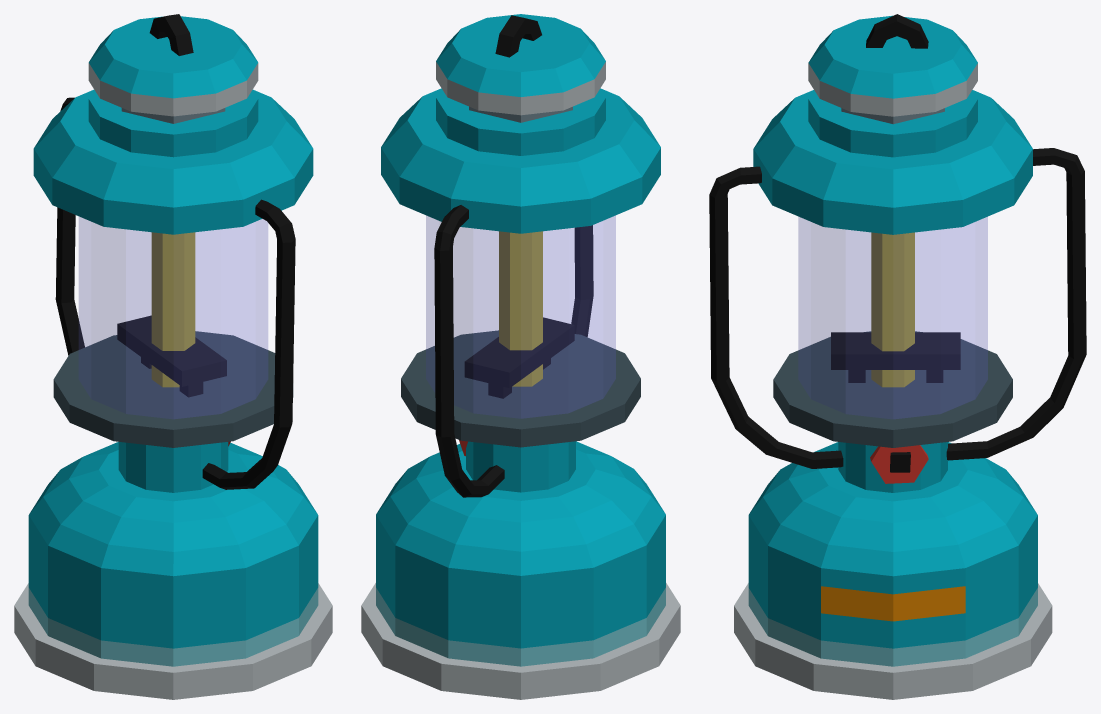
The picture shows the model from 3 angles, left to right: view 1: azimuth 30°, elevation 25°; view 2: azimuth 150°, elevation 25°; view 3: azimuth 270°, elevation 25°; orthographic projection.
Visible parts, largest first — view 1: node_MeshObject-424990720-PolyPaper4, node_MeshObject147088384-PolyGlass24; view 2: node_MeshObject-424990720-PolyPaper4, node_MeshObject147088384-PolyGlass24; view 3: node_MeshObject-424990720-PolyPaper4, node_MeshObject147088384-PolyGlass24.
Boxes of the visible parts, bbox=[...] form: node_MeshObject-424990720-PolyPaper4: bbox=[14, 14, 332, 699]; node_MeshObject147088384-PolyGlass24: bbox=[79, 217, 267, 418]; node_MeshObject-424990720-PolyPaper4: bbox=[361, 14, 680, 699]; node_MeshObject147088384-PolyGlass24: bbox=[426, 216, 615, 418]; node_MeshObject-424990720-PolyPaper4: bbox=[709, 14, 1086, 699]; node_MeshObject147088384-PolyGlass24: bbox=[798, 217, 987, 418].
Size of the model in its own units: 0.319 by 0.6804 by 0.3781.
